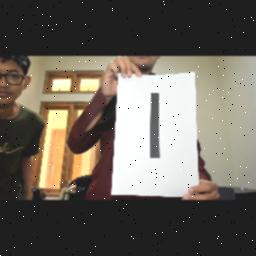i: (144, 92, 168, 164)
